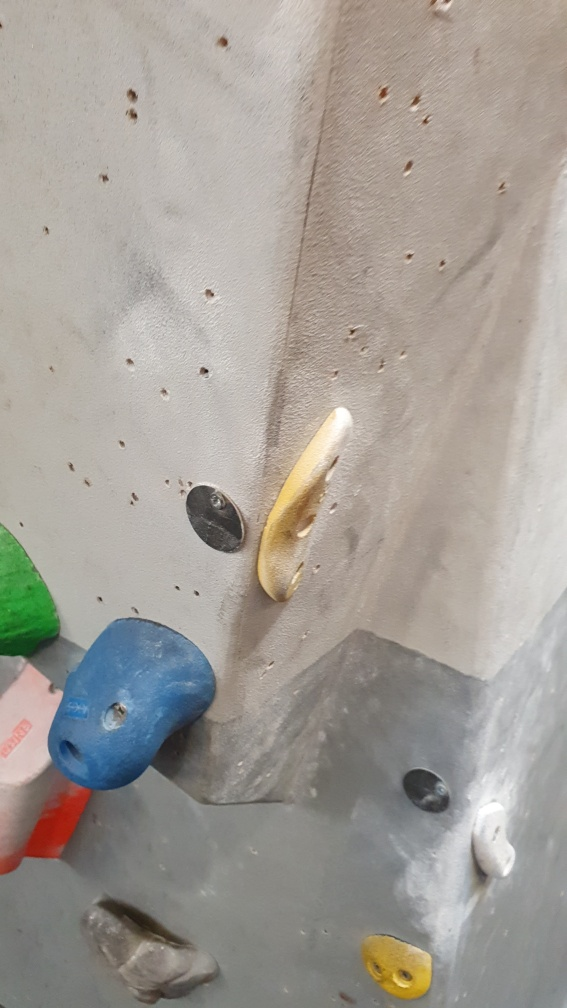Hand Start: (183, 476, 251, 555), (401, 765, 452, 817)
Jug: (80, 889, 224, 1001)
